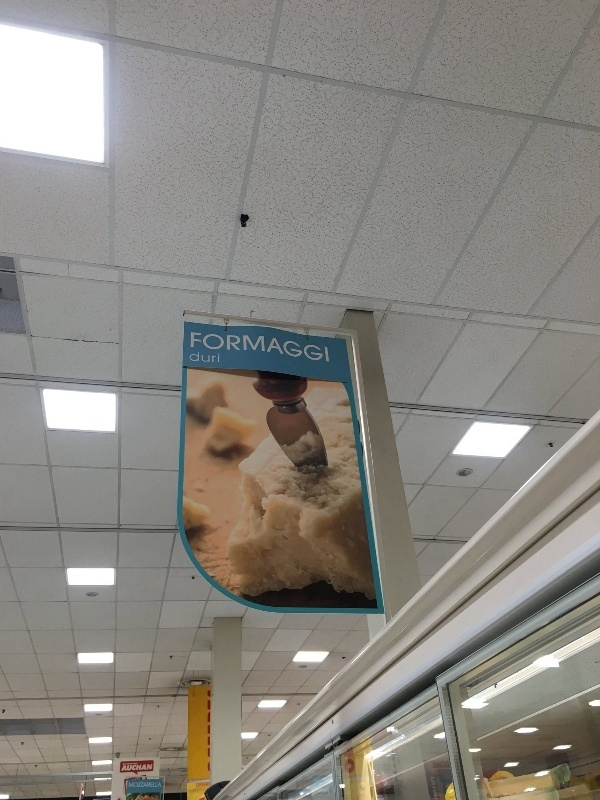text: (193, 329, 208, 366), (209, 329, 224, 366), (225, 329, 240, 366), (241, 329, 256, 366), (257, 329, 272, 366), (273, 329, 288, 366), (289, 329, 304, 366), (305, 329, 320, 366), (321, 329, 330, 366), (193, 352, 208, 366), (129, 763, 144, 774), (209, 352, 220, 366), (189, 329, 192, 366), (129, 782, 144, 789), (145, 782, 160, 789), (195, 781, 208, 789), (145, 763, 154, 774), (123, 763, 128, 774), (189, 352, 192, 366), (209, 781, 210, 789), (161, 782, 162, 789)
